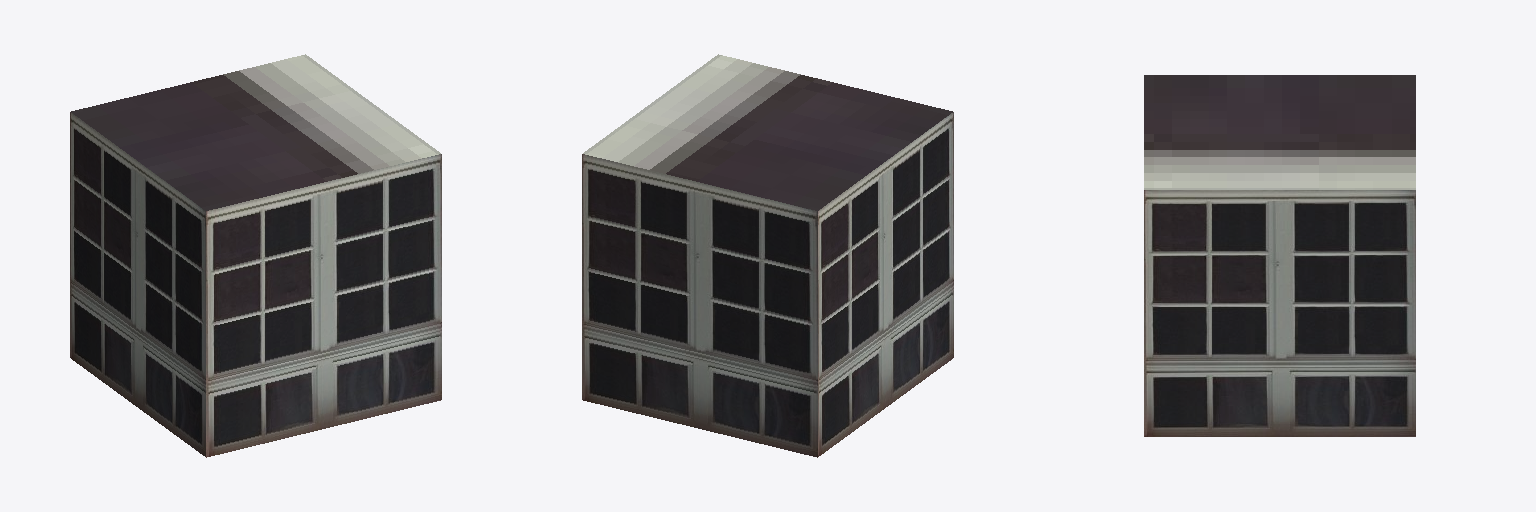
3 views of the same model, side by side, from view 1: azimuth 30°, elevation 25°; view 2: azimuth 150°, elevation 25°; view 3: azimuth 270°, elevation 25° (orthographic).
Visible parts, largest first — view 1: cube1; view 2: cube1; view 3: cube1.
Part boxes in pixels (left/top/right/bottom): cube1: left=70, top=54, right=441, bottom=457; cube1: left=582, top=54, right=953, bottom=457; cube1: left=1144, top=75, right=1415, bottom=436.
Size of the model in its own units: 1 by 1 by 1.
1 materials, 1 textured.